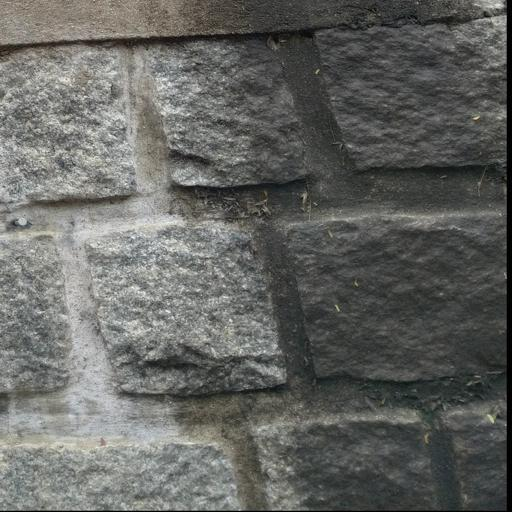stain: (129, 13, 511, 512)
